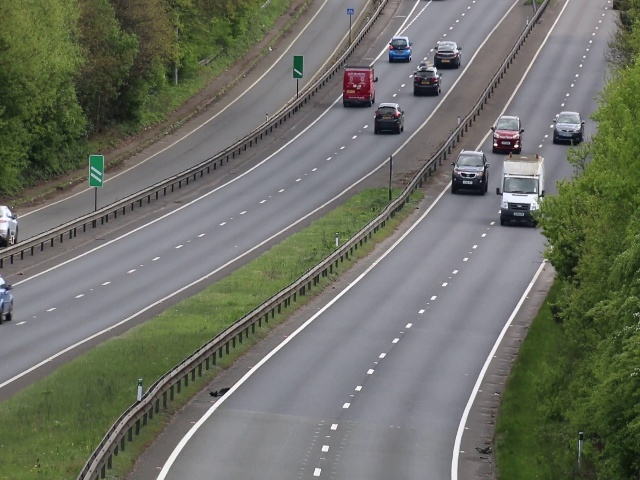car: (502, 156, 540, 227), (451, 147, 488, 195), (341, 64, 377, 107), (492, 113, 522, 157), (374, 99, 405, 138), (554, 108, 584, 145), (413, 64, 442, 98), (432, 38, 461, 68), (387, 33, 413, 64), (1, 203, 20, 240)
